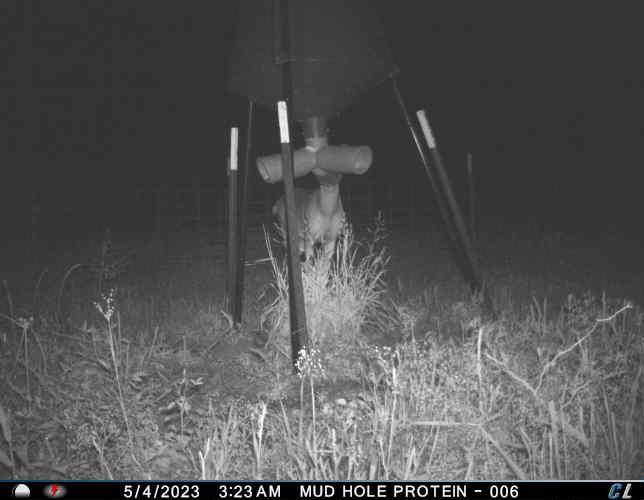Deer: (269, 179, 349, 274)
